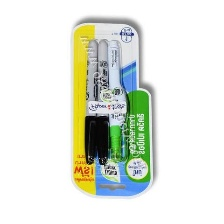book: (66, 18, 156, 201)
correction_fluid: (104, 38, 130, 165)
